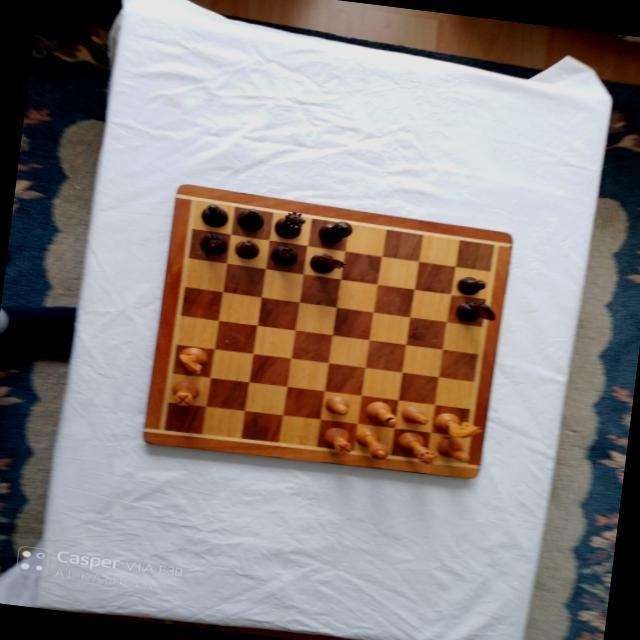black-bishop: (197, 202, 228, 229), (234, 206, 265, 232)
black-king: (316, 218, 352, 246)
black-knight: (454, 298, 496, 326), (308, 251, 346, 277)
black-pawn: (455, 275, 486, 298), (232, 240, 260, 260)
black-queen: (272, 209, 304, 240)
black-rook: (198, 231, 226, 256), (269, 244, 296, 267)
white-bishop: (362, 399, 398, 427), (436, 437, 472, 463)
white-king: (352, 424, 392, 460)
white-knight: (431, 411, 484, 441), (173, 344, 208, 375)
white-pawn: (321, 393, 351, 416), (398, 404, 429, 426)
white-queen: (395, 430, 438, 465)
white-rook: (318, 424, 353, 455), (168, 379, 199, 407)
